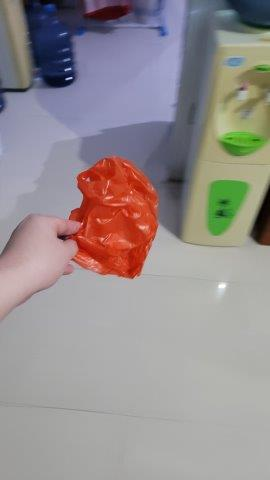plastik: (56, 156, 161, 283)
